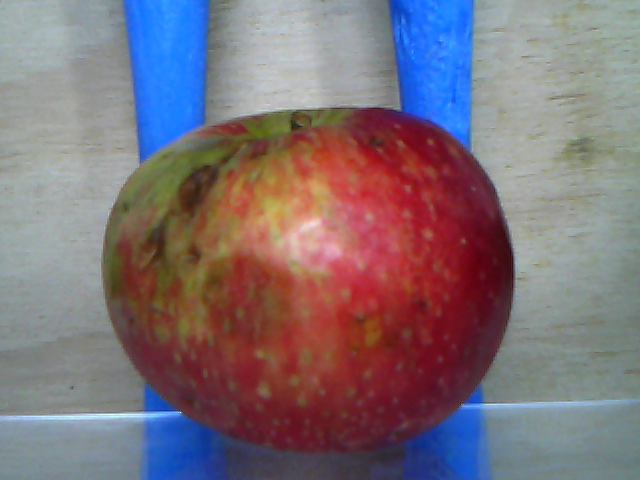bruise: (204, 251, 299, 349), (178, 164, 223, 219)
